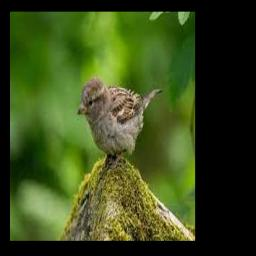Sparrow: (77, 75, 162, 167)
